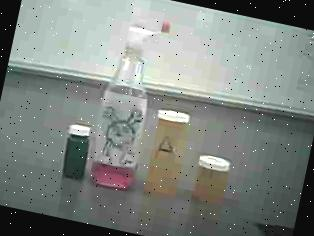Bottle A: (136, 101, 202, 204)
Bottle B: (182, 146, 245, 224)
Bottle C: (54, 118, 98, 184)
hazard: (78, 6, 176, 194)
